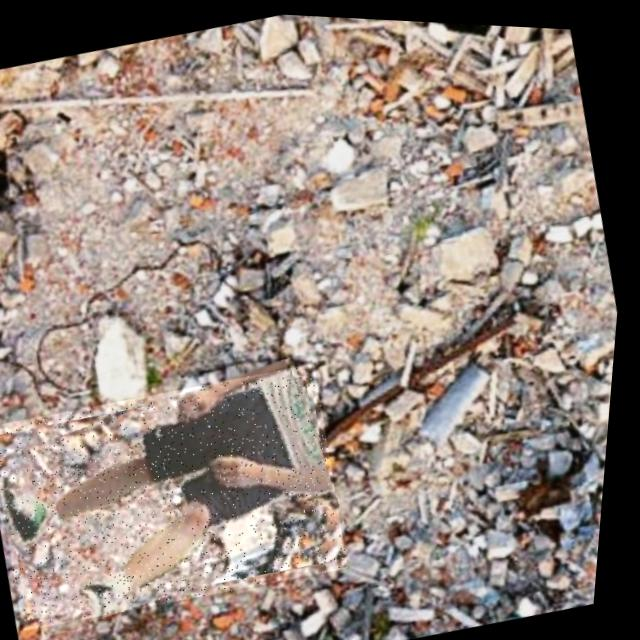Person in Rubble: (0, 347, 369, 640)
